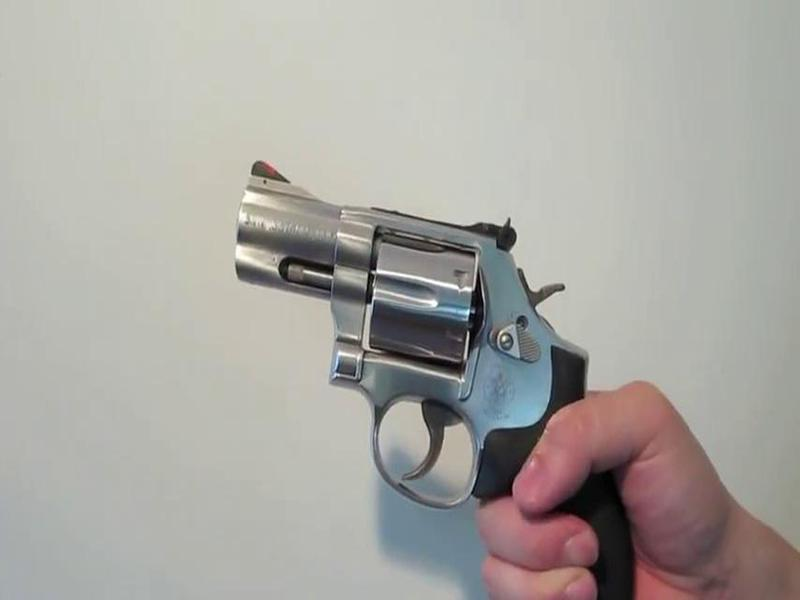Revolver: (201, 134, 633, 537)
